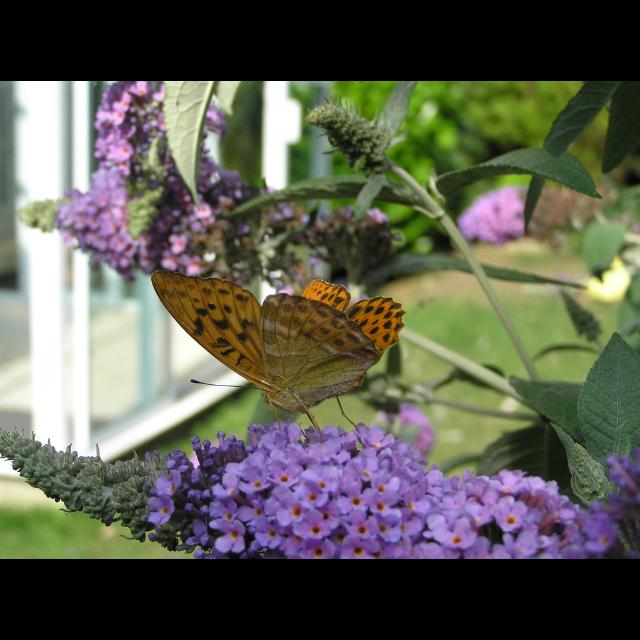Flower: (152, 408, 640, 558), (56, 81, 387, 282), (454, 186, 530, 242), (146, 494, 178, 524)
